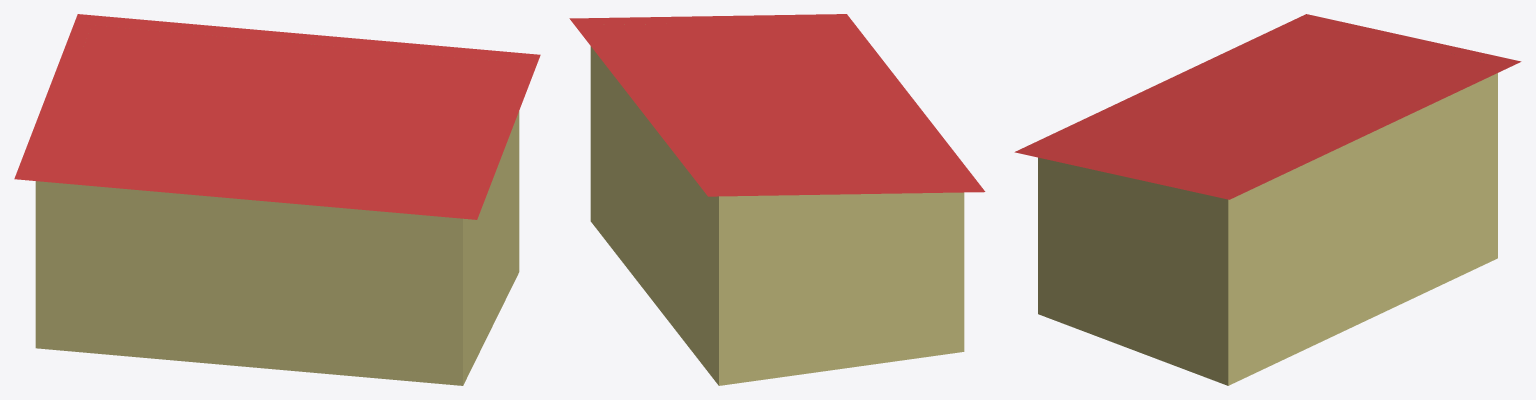
3 renders of one model, left to right at view 1: azimuth 30°, elevation 25°; view 2: azimuth 150°, elevation 25°; view 3: azimuth 270°, elevation 25°, orthographic. The views are drawn at different scales.
Size of the model in its own units: 15.44 by 15.09 by 6.43.
